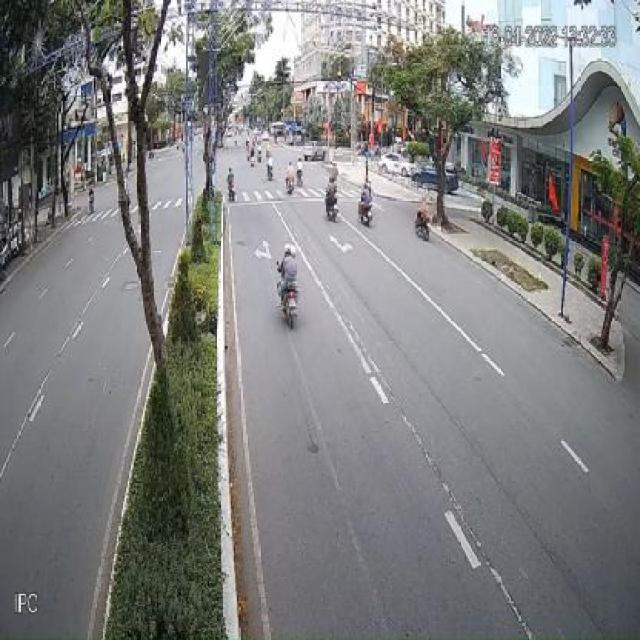motorbike: (274, 246, 302, 331), (357, 182, 374, 228), (322, 179, 339, 224), (416, 202, 432, 245), (226, 166, 234, 200), (286, 166, 295, 194), (89, 188, 98, 215), (267, 157, 275, 180)
